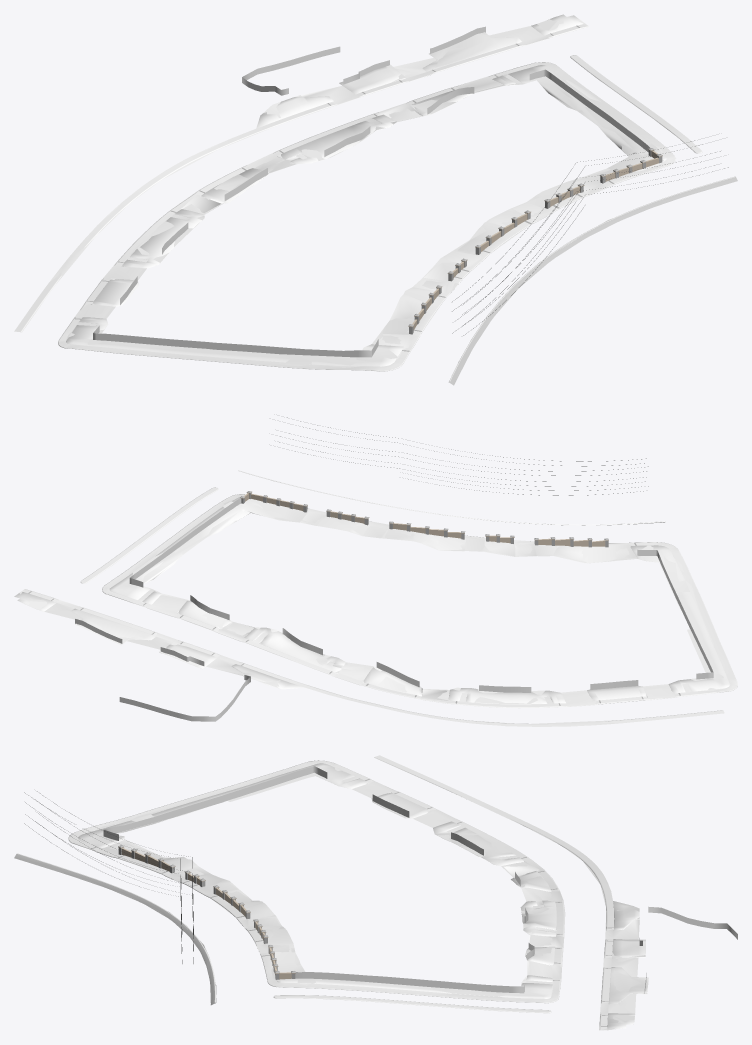
Rendered from sidewalk_suburb4.dae.
3 views of the same model, one above another, from view 1: azimuth 30°, elevation 25°; view 2: azimuth 150°, elevation 25°; view 3: azimuth 270°, elevation 25° (orthographic). The views are drawn at different scales.
Parts seen in each view (by area): view 1: sidewalk_suburb4_a4000, sidewalk_suburb4_a1900; view 2: sidewalk_suburb4_a4000, sidewalk_suburb4_a1900; view 3: sidewalk_suburb4_a4000, sidewalk_suburb4_a1900.
Part boxes in pixels (bbox=[...]): sidewalk_suburb4_a4000: bbox=[14, 14, 737, 384]; sidewalk_suburb4_a1900: bbox=[17, 19, 731, 385]; sidewalk_suburb4_a4000: bbox=[14, 417, 737, 726]; sidewalk_suburb4_a1900: bbox=[19, 492, 736, 726]; sidewalk_suburb4_a4000: bbox=[14, 755, 737, 1030]; sidewalk_suburb4_a1900: bbox=[20, 755, 648, 1030].
Size of the model in its own units: 184 by 171 by 32.05.
